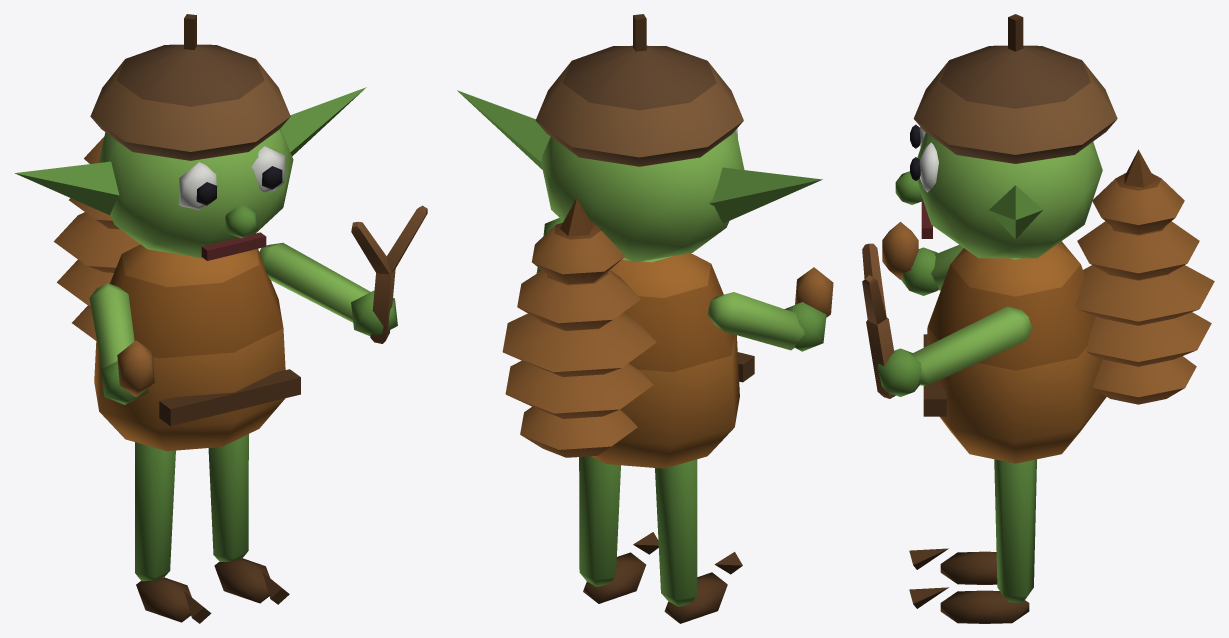
The model's file is e_wald_zapfenwerfer.glb.
3 renders of one model, left to right at view 1: azimuth 30°, elevation 25°; view 2: azimuth 150°, elevation 25°; view 3: azimuth 270°, elevation 25°, orthographic. The views are drawn at different scales.
Parts seen in each view (by area): view 1: body; view 2: body; view 3: body.
Boxes of the visible parts, <box> form: body: <box>14,14,427,623</box>; body: <box>457,14,833,623</box>; body: <box>862,14,1214,623</box>.
Bounding box in the file's own units: 1.08 × 1.69 × 0.9188.
